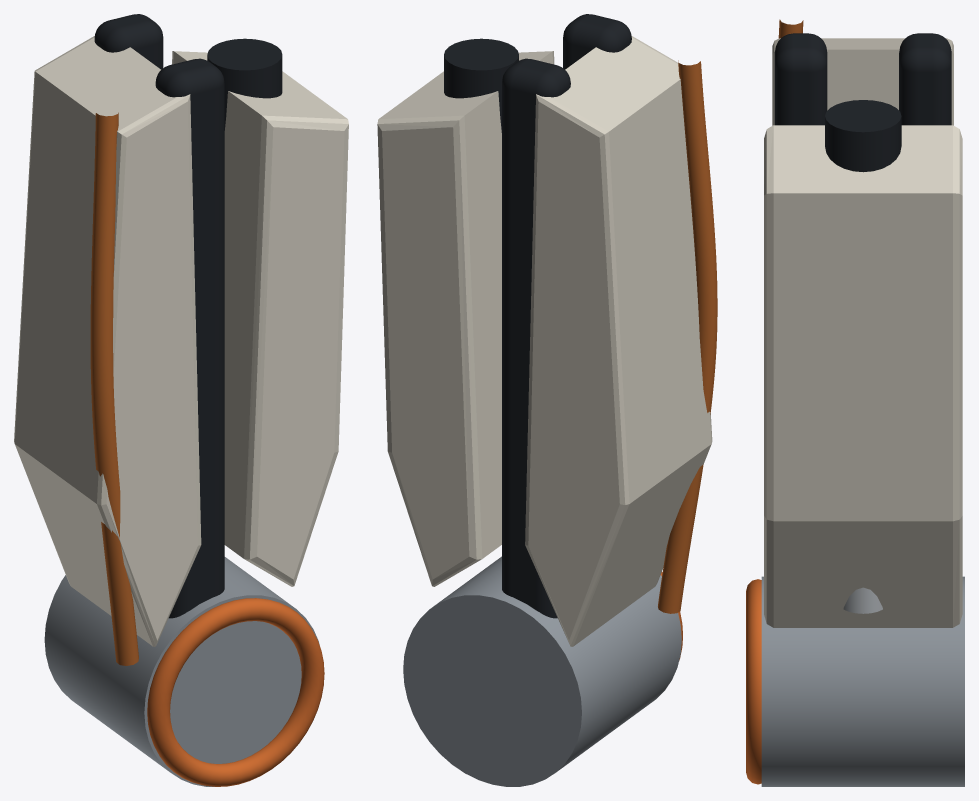
The model's file is right_shin_link.glb.
The picture shows the model from 3 angles, left to right: view 1: azimuth 30°, elevation 25°; view 2: azimuth 150°, elevation 25°; view 3: azimuth 270°, elevation 25°; orthographic projection.
Parts seen in each view (by area): view 1: right_shin_link; view 2: right_shin_link; view 3: right_shin_link.
Part boxes in pixels (x1,y1,x2,y2): right_shin_link: (14,14,348,786); right_shin_link: (377,14,717,786); right_shin_link: (746,19,964,786).
Bounding box in the file's own units: 0.1242 × 0.334 × 0.0915.
